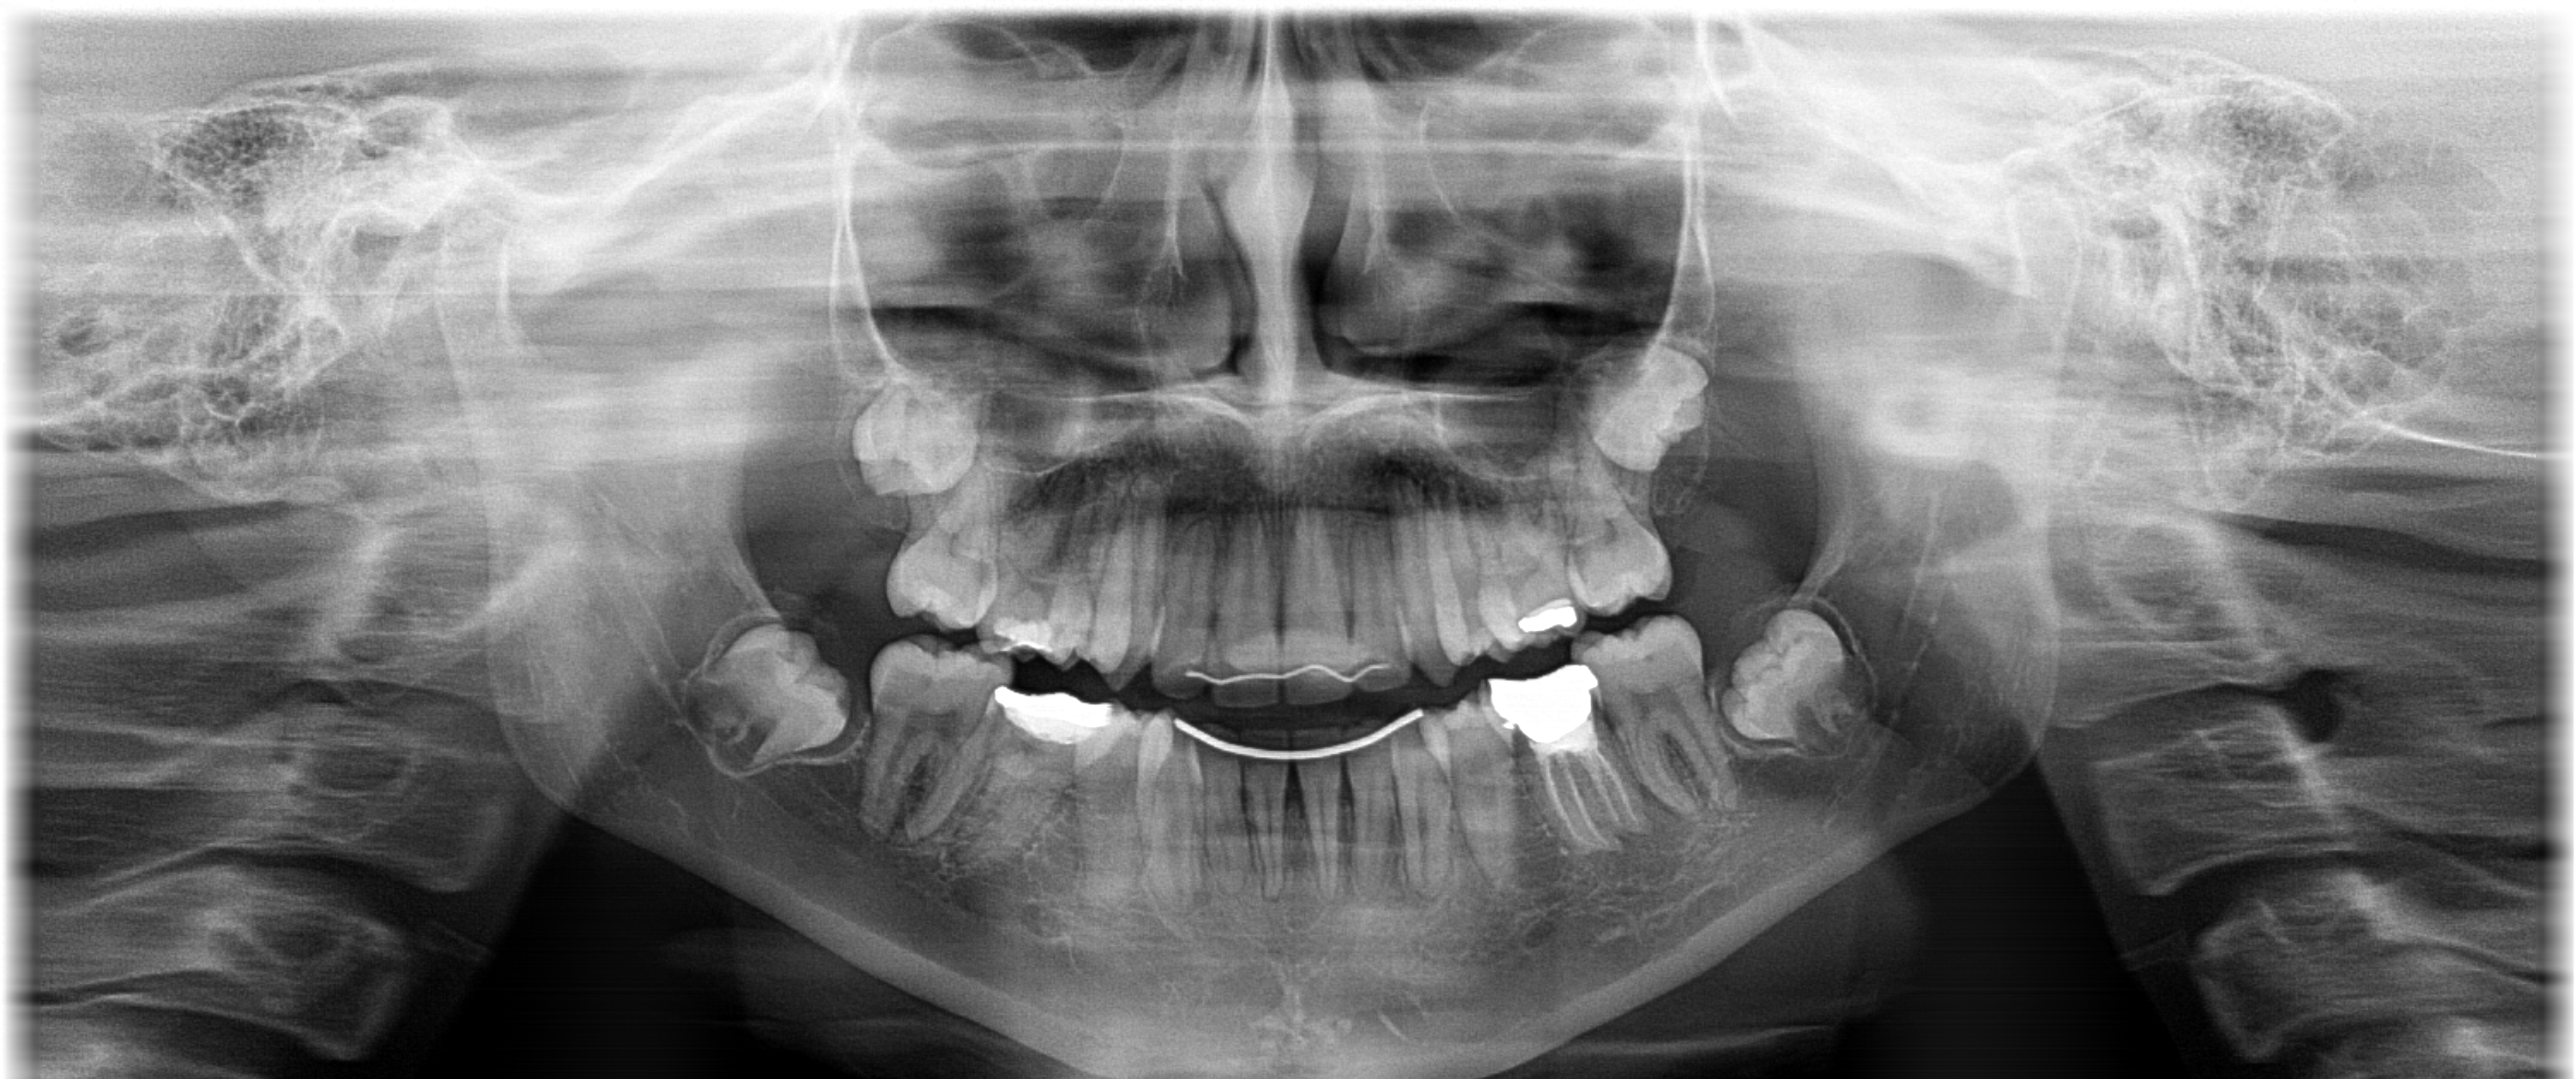cordal: (1697, 552, 1906, 769), (665, 591, 876, 782), (1554, 327, 1746, 496), (820, 350, 991, 522)
fractura: (938, 670, 1119, 882)
tratamiento_conducto: (1479, 668, 1664, 864)
